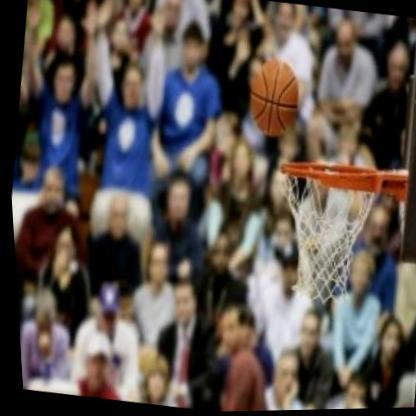basketball: (235, 49, 312, 147)
